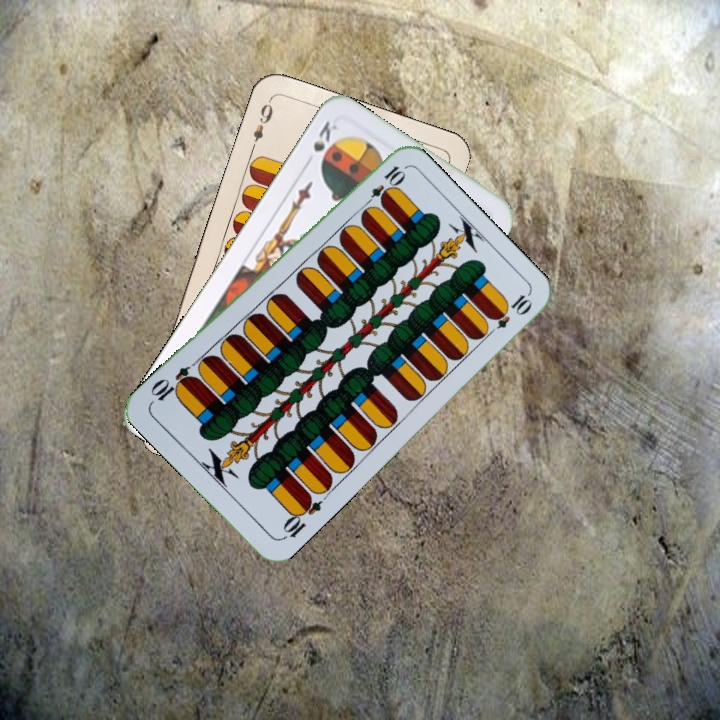E10: (278, 490, 325, 543), (359, 161, 407, 211)
E9: (247, 96, 276, 153)
SK: (300, 116, 340, 169)
